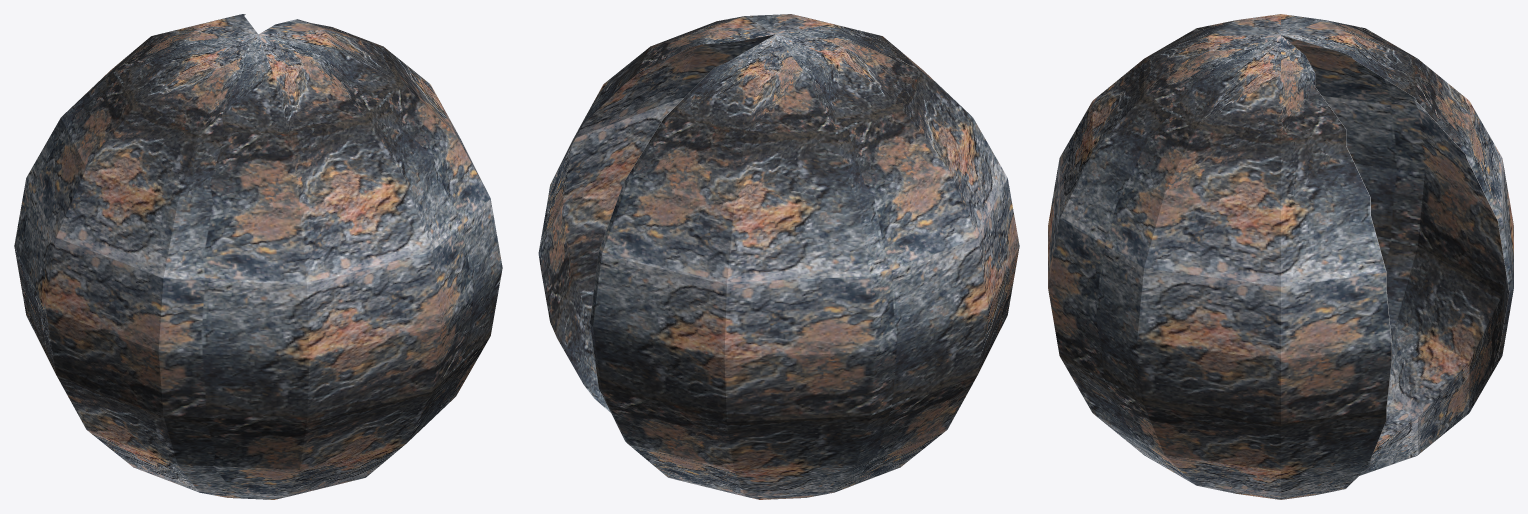
The model's file is cannon.obj.
3 renders of one model, left to right at view 1: azimuth 30°, elevation 25°; view 2: azimuth 150°, elevation 25°; view 3: azimuth 270°, elevation 25°, orthographic.
Visible parts, largest first — view 1: pSphere1; view 2: pSphere1; view 3: pSphere1.
Boxes of the visible parts, x1,y1,x2,y2 form: pSphere1: [14, 14, 502, 499]; pSphere1: [538, 14, 1019, 499]; pSphere1: [1048, 14, 1513, 499].
Bounding box in the file's own units: 2 × 2 × 1.9.
